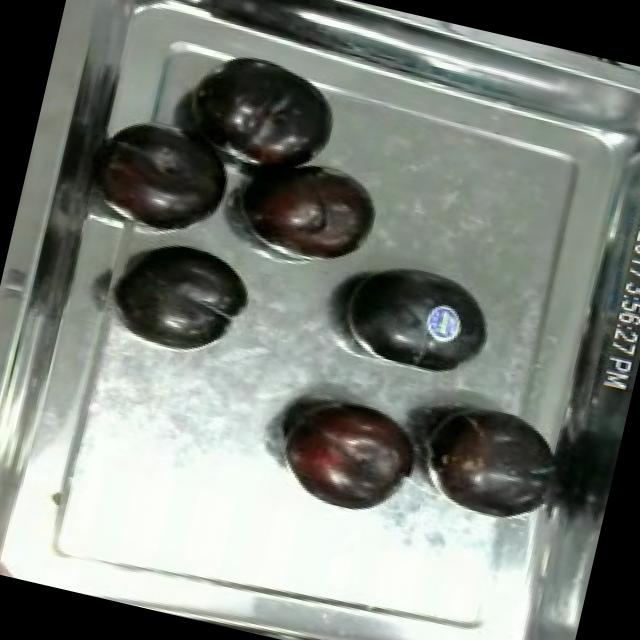Fruit: (326, 245, 505, 384), (184, 40, 352, 186), (262, 381, 430, 526), (103, 222, 267, 366), (81, 115, 243, 248), (416, 391, 570, 530), (231, 144, 389, 276)
